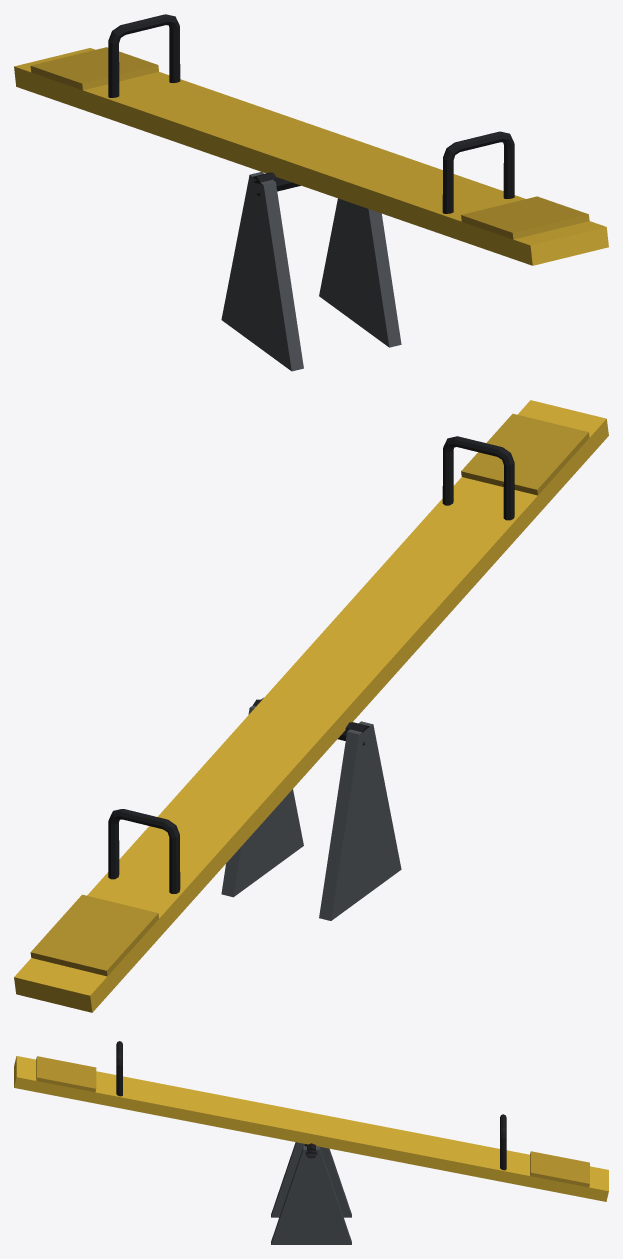
The model's file is bascule.glb.
3 views of the same model, one above another, from view 1: azimuth 30°, elevation 25°; view 2: azimuth 150°, elevation 25°; view 3: azimuth 270°, elevation 25° (orthographic). The views are drawn at different scales.
Visible parts, largest first — view 1: plank, stand_l, stand_r, seats, handle_low, handle_high; view 2: plank, seats, stand_l, stand_r, handle_low, handle_high; view 3: plank, stand_r, seats, stand_l, handle_low, handle_high.
Boxes of the visible parts, box(x1,y1,x2,y2) form: plank: box(14, 48, 608, 265); stand_l: box(221, 171, 303, 371); stand_r: box(319, 198, 401, 347); seats: box(30, 47, 589, 239); handle_low: box(108, 14, 180, 97); handle_high: box(442, 131, 514, 213); plank: box(14, 400, 608, 1012); seats: box(30, 413, 589, 976); stand_l: box(319, 721, 401, 920); stand_r: box(221, 697, 303, 897); handle_low: box(108, 809, 180, 893); handle_high: box(442, 436, 514, 520); plank: box(14, 1056, 608, 1201); stand_r: box(271, 1146, 351, 1244); seats: box(36, 1056, 589, 1187); stand_l: box(271, 1142, 351, 1217); handle_low: box(500, 1114, 506, 1170); handle_high: box(116, 1041, 122, 1096).
Bounding box in the file's own units: 0.36 × 0.9957 × 2.95.
Materials: 4 (4 with a texture image).
